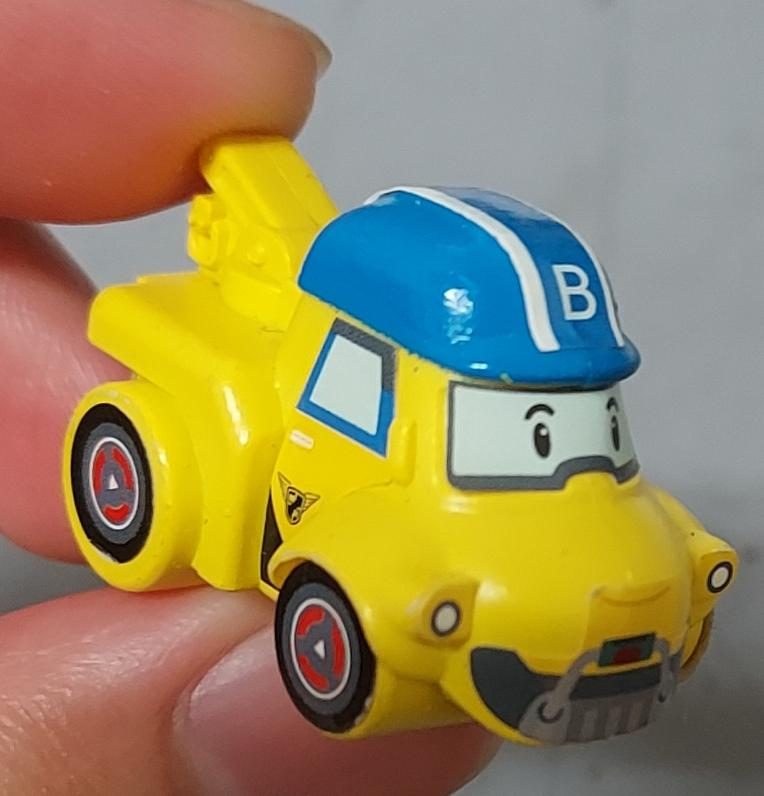car: (0, 1, 764, 796)
